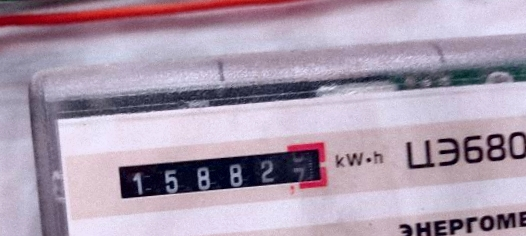1: (131, 167, 146, 197)
2: (257, 157, 276, 184)
5: (162, 166, 181, 197)
7: (291, 164, 305, 182)
8: (226, 160, 245, 189), (194, 163, 212, 193)
screen: (105, 132, 335, 212)
